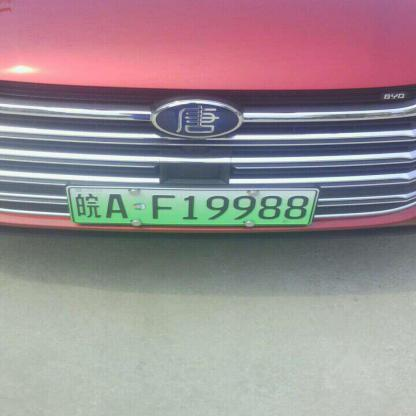lp: (68, 187, 316, 223)
